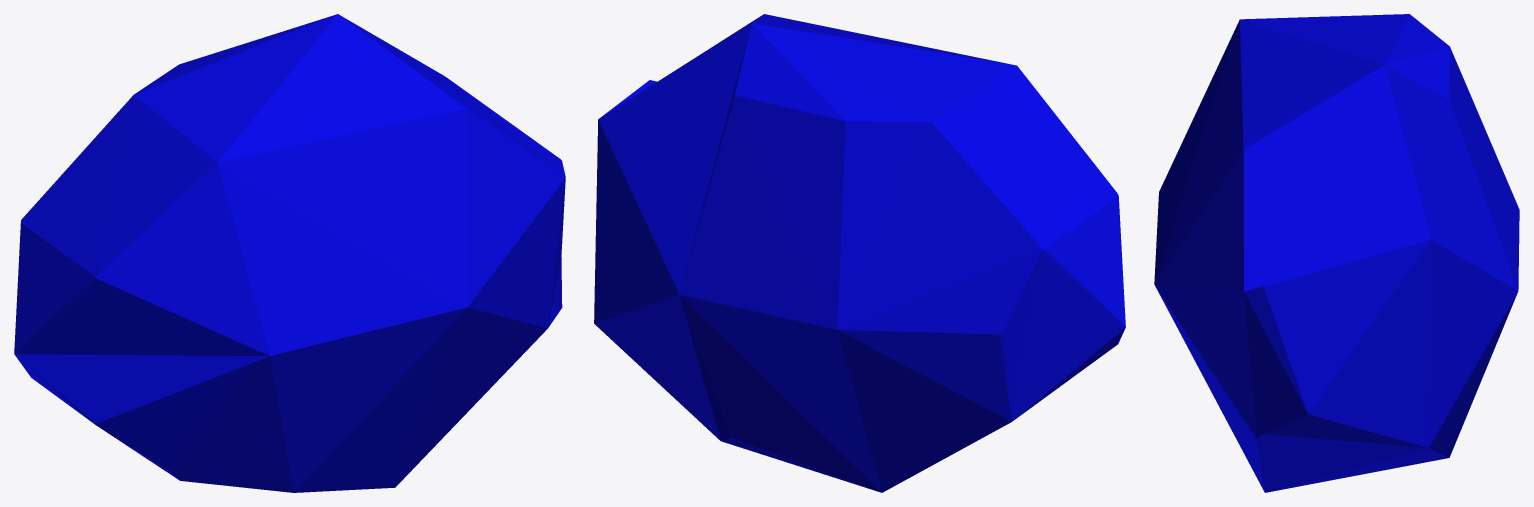
File: meteor_blue_silence_crystal_05.glb
3 renders of one model, left to right at view 1: azimuth 30°, elevation 25°; view 2: azimuth 150°, elevation 25°; view 3: azimuth 270°, elevation 25°, orthographic.
Parts seen in each view (by area): view 1: Mesh1.0; view 2: Mesh1.0; view 3: Mesh1.0.
Part boxes in pixels (x1,y1,x2,y2): Mesh1.0: (14,14,565,492); Mesh1.0: (594,14,1125,492); Mesh1.0: (1154,14,1519,492).
Bounding box in the file's own units: 1.82 × 1.4 × 1.08.
